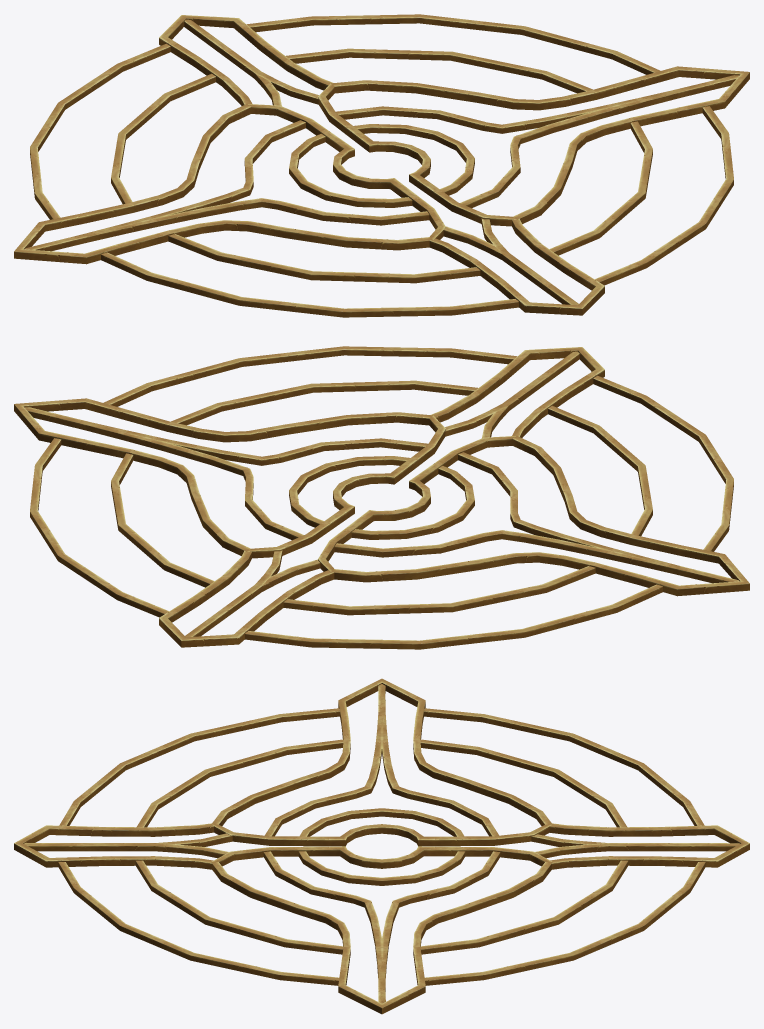
The model's file is G_tuan006.fbx.
The picture shows the model from 3 angles, top to bottom: view 1: azimuth 30°, elevation 25°; view 2: azimuth 150°, elevation 25°; view 3: azimuth 270°, elevation 25°; orthographic projection. The views are drawn at different scales.
Parts seen in each view (by area): view 1: G_tuan006; view 2: G_tuan006; view 3: G_tuan006.
Part boxes in pixels (x1,y1,x2,y2): G_tuan006: [14, 14, 749, 317]; G_tuan006: [14, 346, 749, 649]; G_tuan006: [14, 678, 749, 1014].
Bounding box in the file's own units: 815 × 7.6 × 769.
